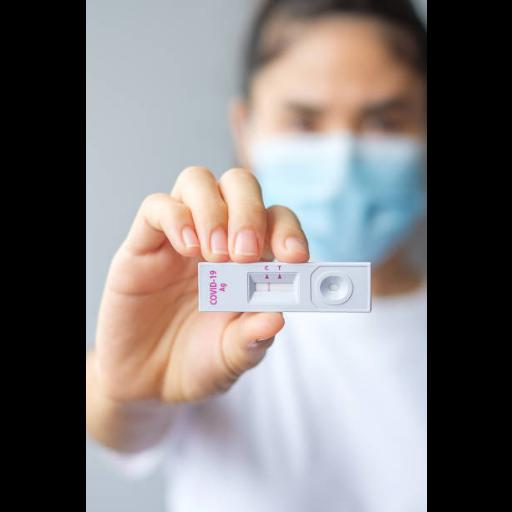Neg: (198, 262, 370, 310)
